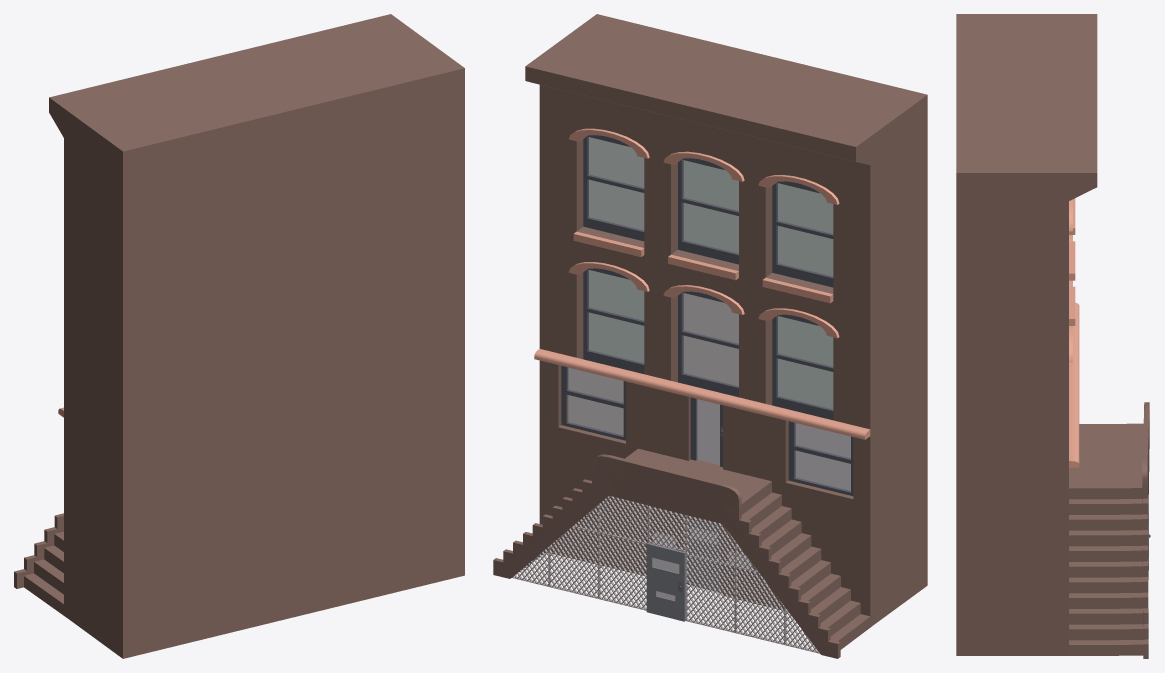
Rendered from Ka_facade_n8.fbx.
3 views of the same model, side by side, from view 1: azimuth 30°, elevation 25°; view 2: azimuth 150°, elevation 25°; view 3: azimuth 270°, elevation 25° (orthographic). The views are drawn at different scales.
Visible parts, largest first — view 1: Batiment_05; view 2: Batiment_05; view 3: Batiment_05.
Part boxes in pixels (bbox=[...]): Batiment_05: bbox=[14, 14, 464, 658]; Batiment_05: bbox=[493, 14, 927, 658]; Batiment_05: bbox=[956, 14, 1150, 658].
Size of the model in its own units: 410 by 559 by 204.
